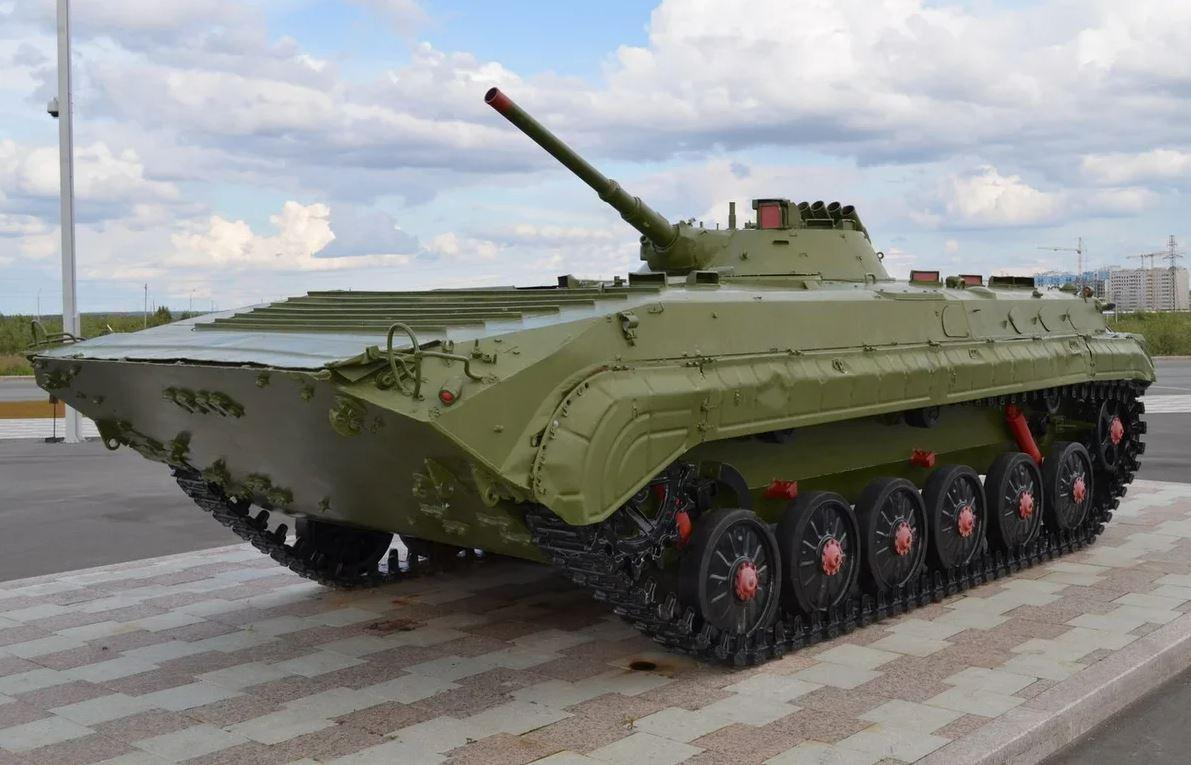tank: (22, 84, 1160, 671)
